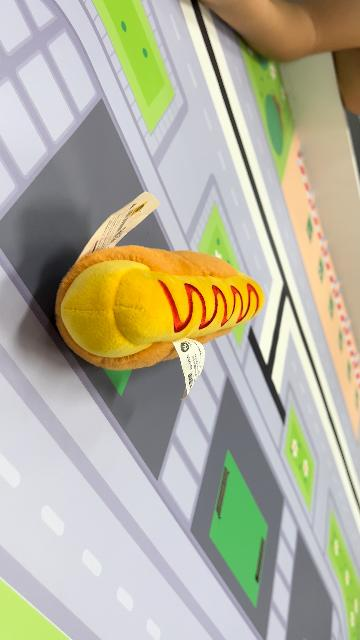hotdog: (54, 244, 266, 370)
